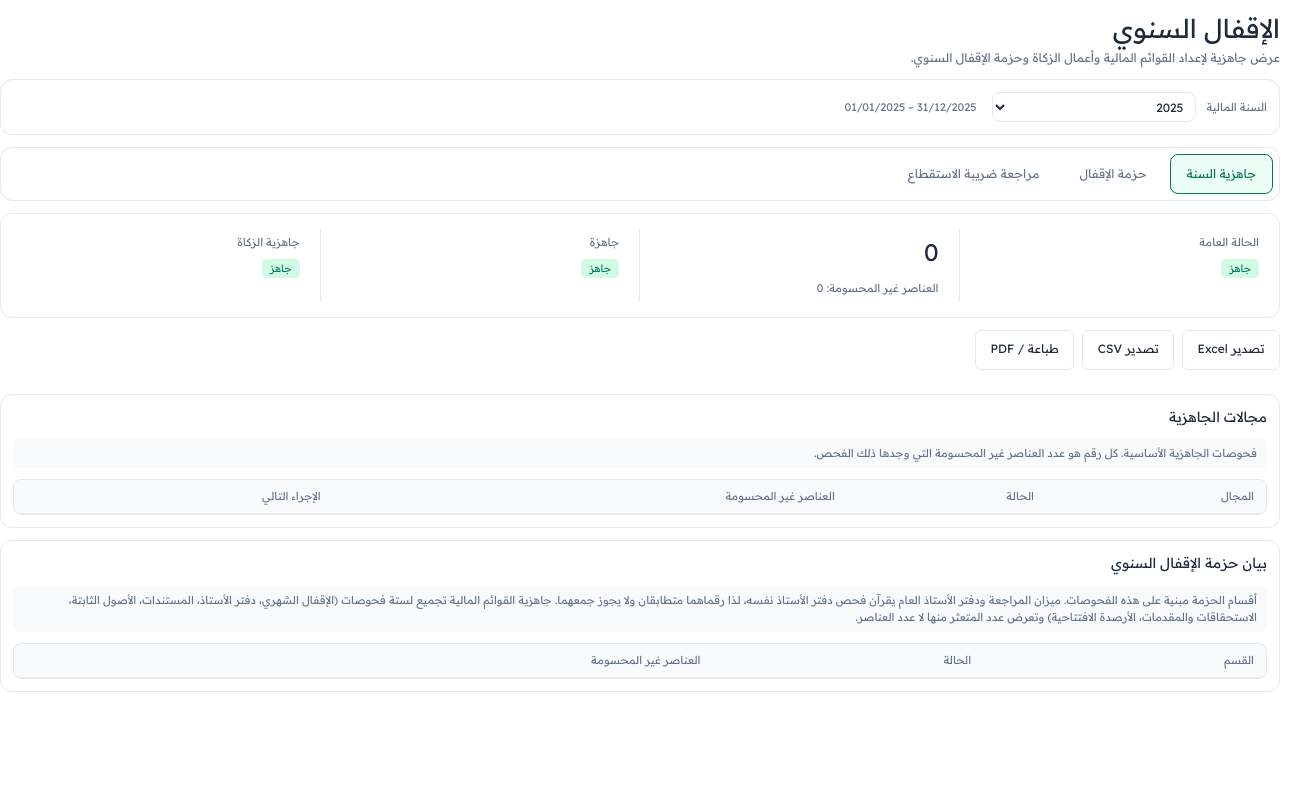
Test: Annual Closing Center › localizes Arabic snapshot types and formats package timestamps for people
Click the tab "حزمة الإقفال" at (1113, 174), box x1=1062 y1=154 x2=1164 y2=194
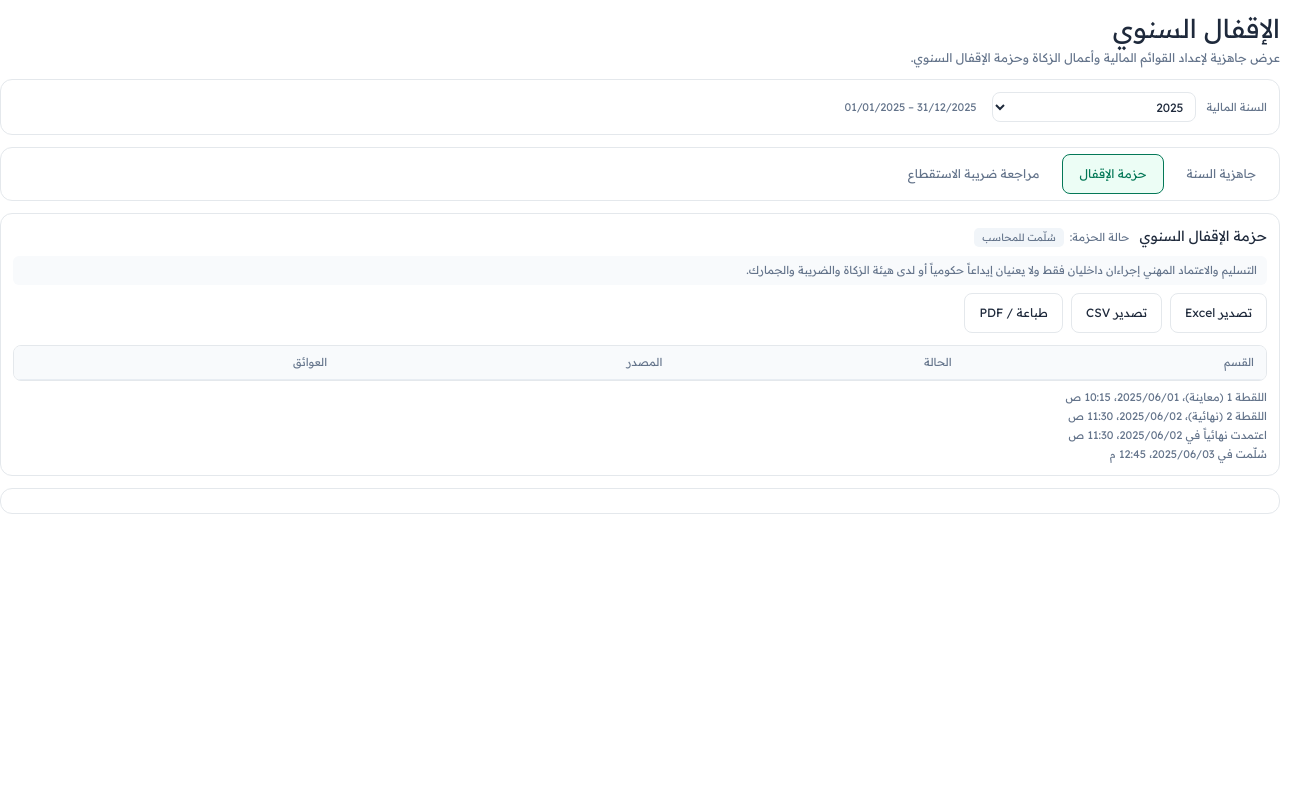
Result: the text "اللقطة 1 (معاينة)، 01 /06 /2025، 10:15 ص" is shown at x1=1066 y1=390 x2=1267 y2=404
Result: the text "اللقطة 2 (نهائية)، 02 /06 /2025، 11:30 ص" is shown at x1=1068 y1=409 x2=1267 y2=423
